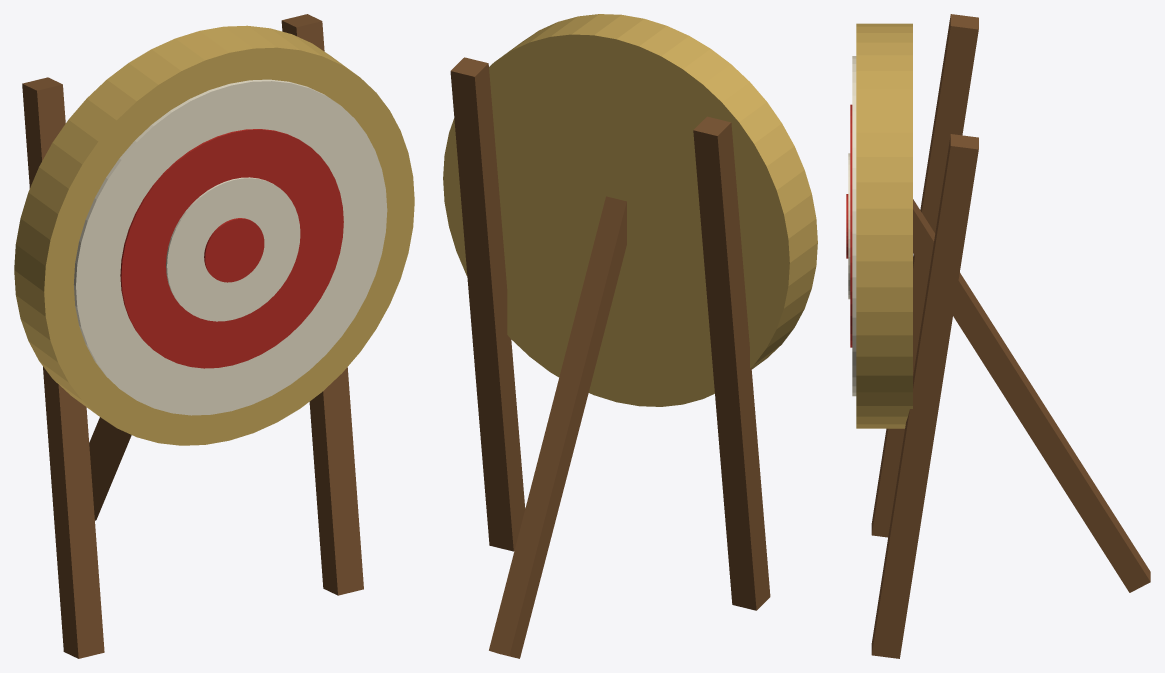
The model's file is zielscheibe3d.glb.
3 views of the same model, side by side, from view 1: azimuth 30°, elevation 25°; view 2: azimuth 150°, elevation 25°; view 3: azimuth 270°, elevation 25° (orthographic). The views are drawn at different scales.
Parts seen in each view (by area): view 1: Cylinder, Cylinder.001, Cylinder.002, Cube, Cylinder.003, Cube.001, Cylinder.004, Cube.002; view 2: Cylinder, Cube, Cube.001, Cube.002; view 3: Cylinder, Cube.001, Cube.002, Cube, Cylinder.001, Cylinder.002.
Boxes of the visible parts, bbox=[...] form: Cylinder: bbox=[14, 25, 414, 445]; Cylinder.001: bbox=[73, 79, 387, 415]; Cylinder.002: bbox=[120, 129, 343, 368]; Cube: bbox=[22, 77, 104, 658]; Cylinder.003: bbox=[166, 177, 300, 321]; Cube.001: bbox=[281, 14, 363, 595]; Cylinder.004: bbox=[204, 218, 264, 282]; Cube.002: bbox=[89, 417, 131, 520]; Cylinder: bbox=[443, 14, 817, 406]; Cube: bbox=[693, 116, 770, 610]; Cube.001: bbox=[450, 57, 525, 551]; Cube.002: bbox=[489, 196, 626, 658]; Cylinder: bbox=[856, 23, 912, 428]; Cube.001: bbox=[871, 134, 978, 658]; Cube.002: bbox=[913, 199, 1150, 592]; Cube: bbox=[871, 14, 978, 537]; Cylinder.001: bbox=[852, 56, 856, 396]; Cylinder.002: bbox=[850, 104, 852, 347].
Bounding box in the file's own units: 1 × 1.5 × 0.751.
